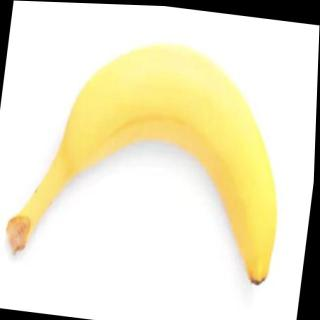banana: (47, 26, 300, 289)
